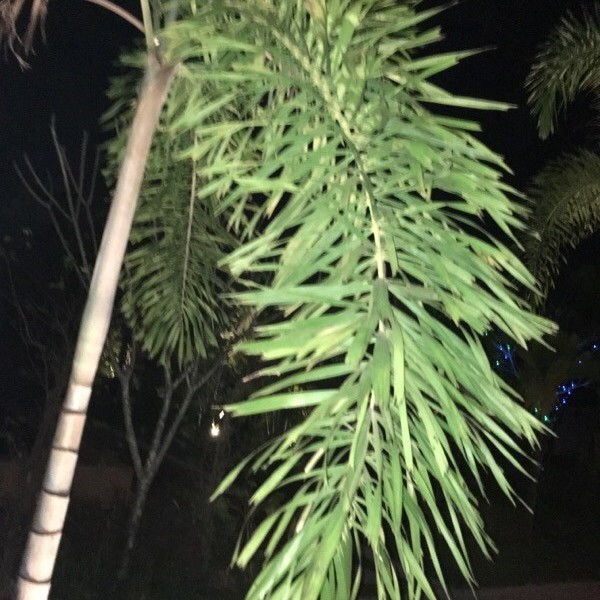obstacle: (167, 13, 562, 572)
